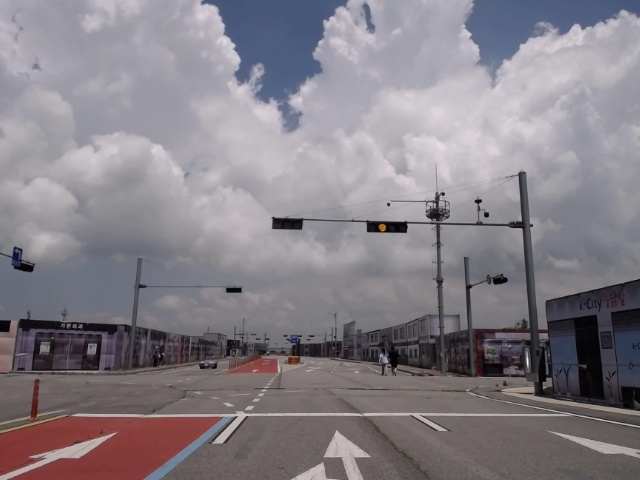orange_4: (367, 222, 409, 235)
